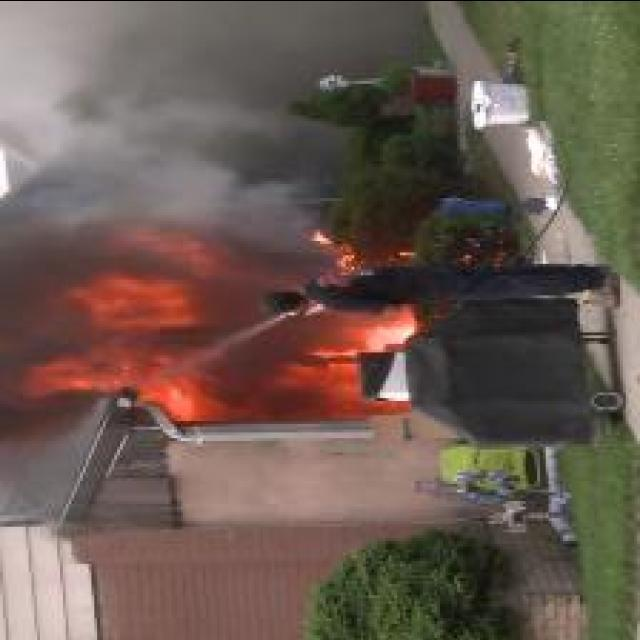Fire: (27, 231, 413, 426)
